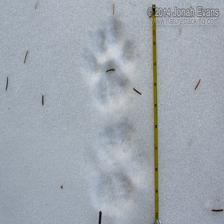puma: (81, 117, 152, 213), (78, 18, 140, 108)
